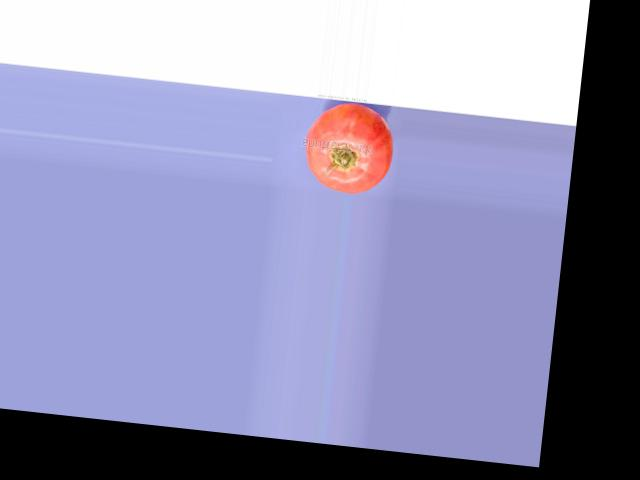tomato: (301, 100, 398, 197)
